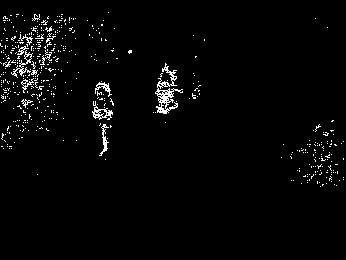person: (90, 79, 115, 161)
